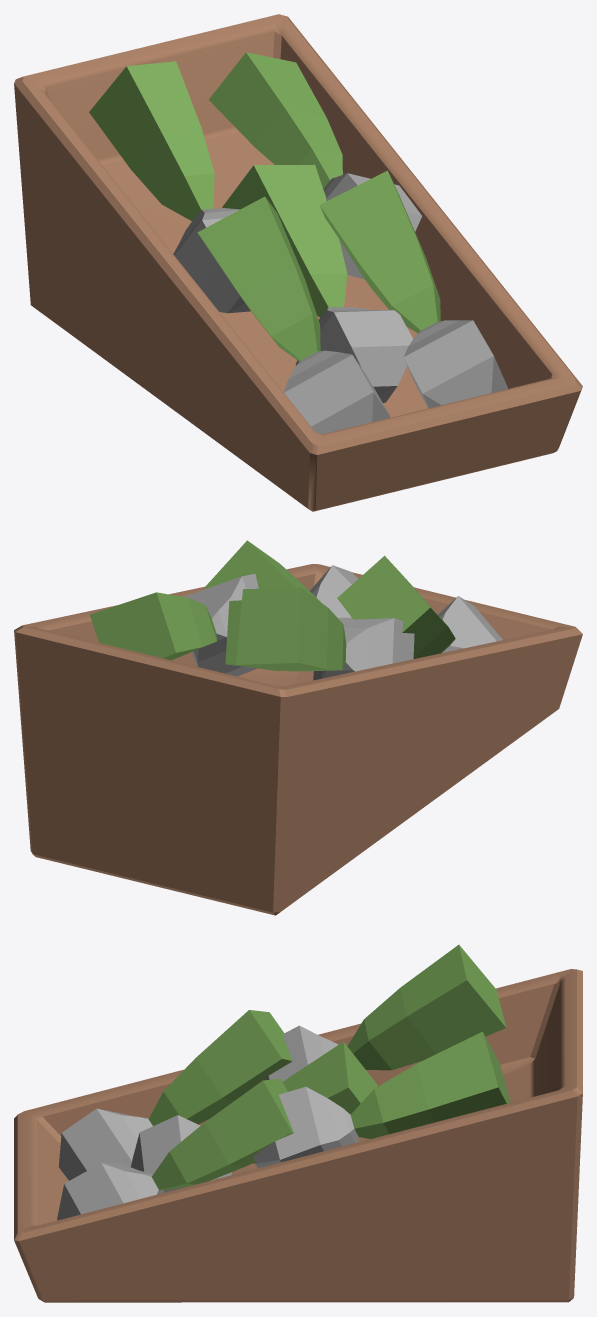
File: Leek bin.fbx
3 renders of one model, top to bottom at view 1: azimuth 30°, elevation 25°; view 2: azimuth 150°, elevation 25°; view 3: azimuth 270°, elevation 25°, orthographic. The views are drawn at different scales.
Parts seen in each view (by area): view 1: Leek_bin; view 2: Leek_bin; view 3: Leek_bin.
Part boxes in pixels (x1,y1,x2,y2): Leek_bin: [14, 14, 582, 511]; Leek_bin: [14, 540, 582, 915]; Leek_bin: [14, 944, 582, 1302].
Size of the model in its own units: 88 by 85.1 by 167.
